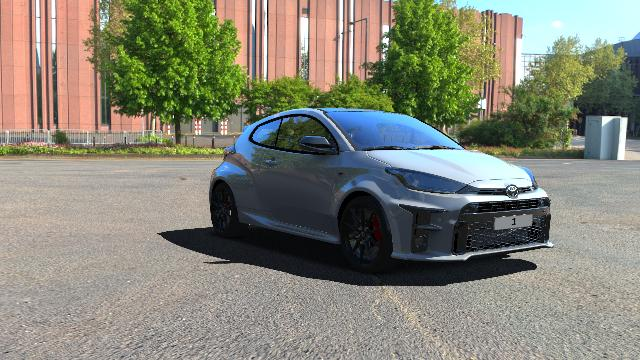License Plate: (493, 212, 533, 230)
